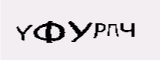З: (112, 19, 124, 41)
Л: (34, 18, 64, 49)
М: (98, 22, 110, 45)
Э: (85, 25, 97, 46)
Ю: (66, 22, 84, 47)
